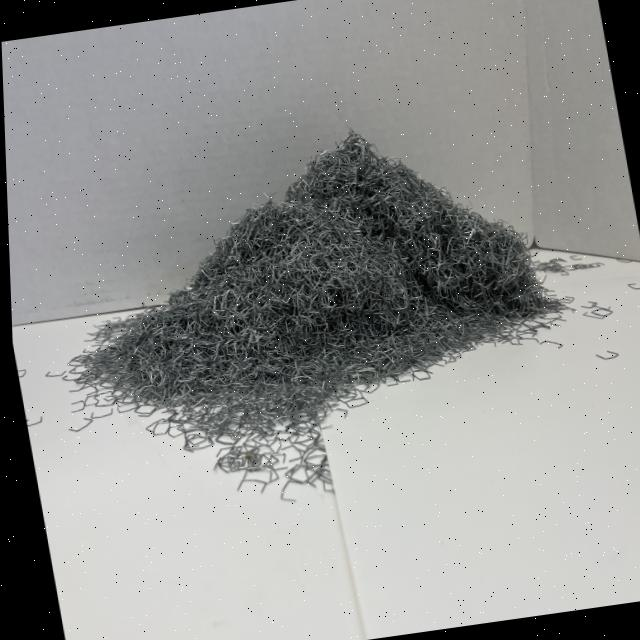staples: (19, 102, 589, 533)
